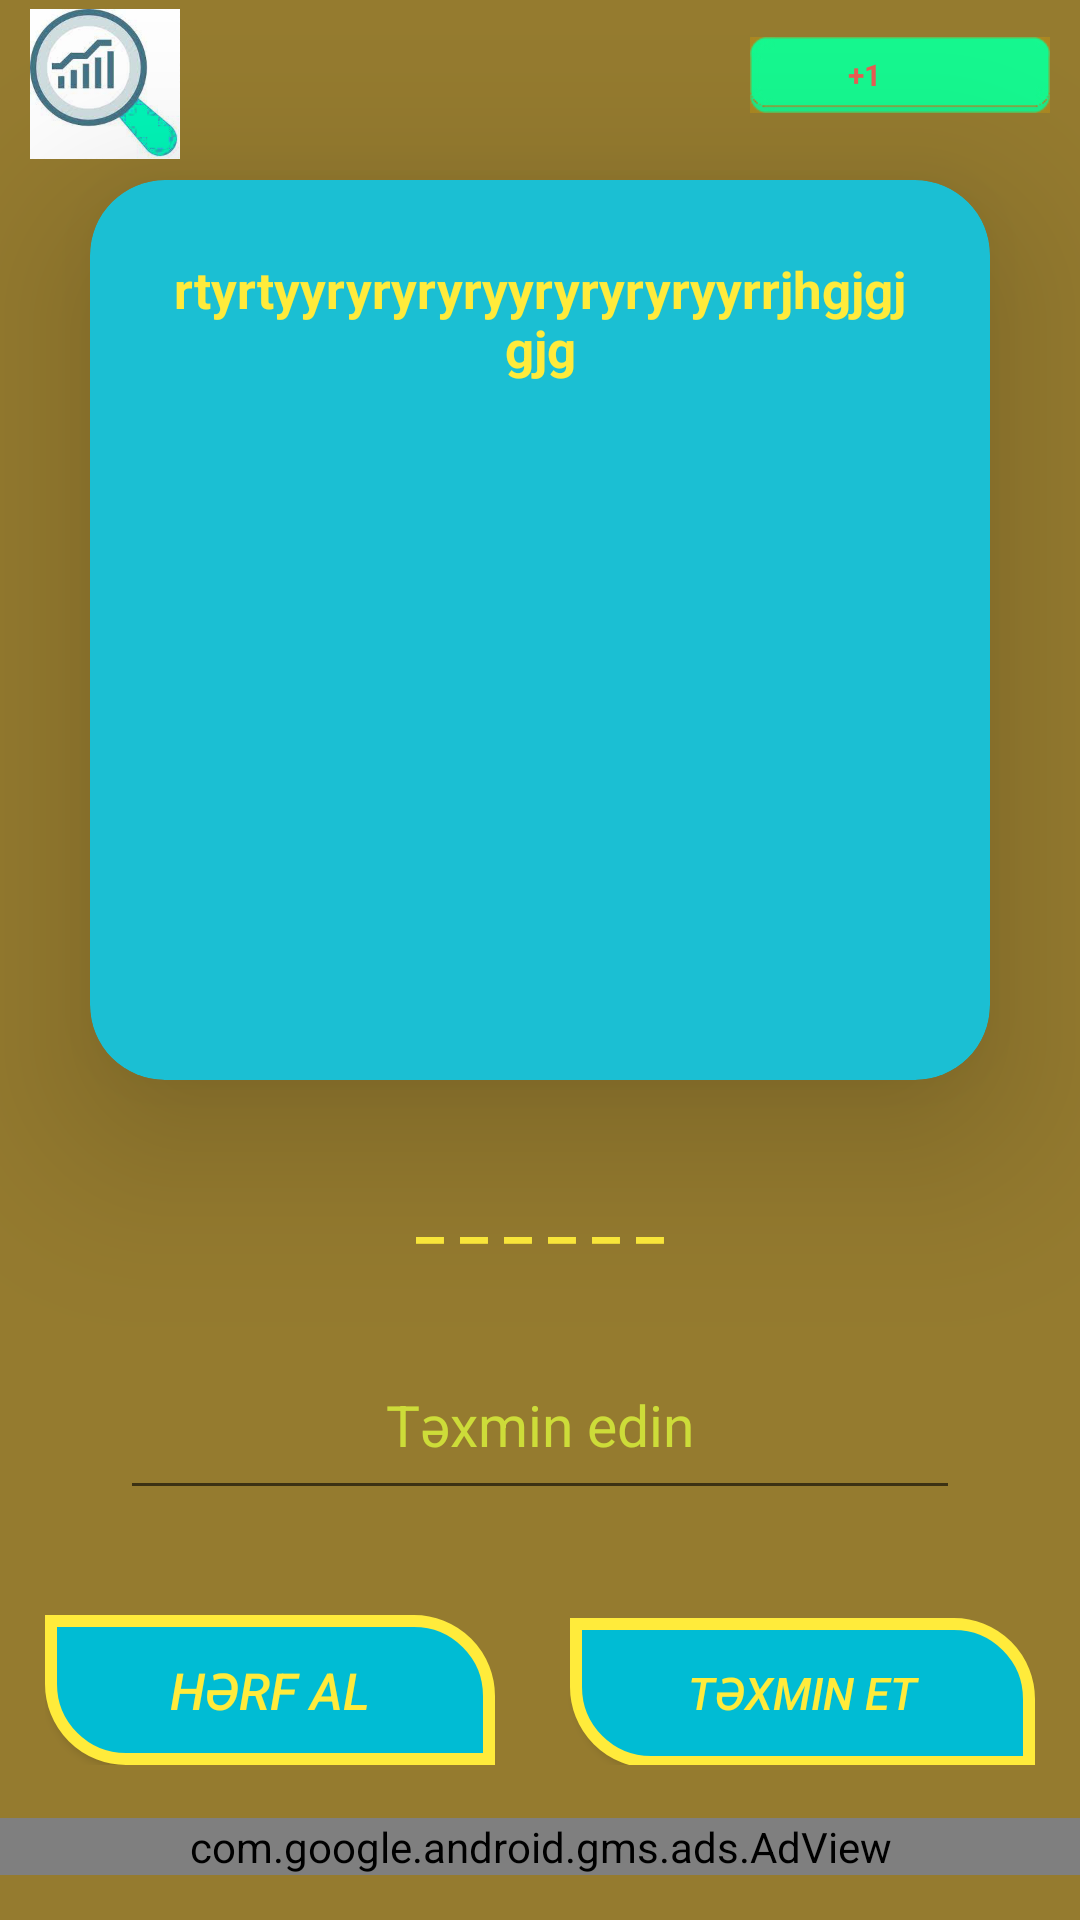

Icon bounding boxes for this 1080*1920 phone screenshot, format (x1, y1, x2, y2):
search: (30, 9, 180, 159)
